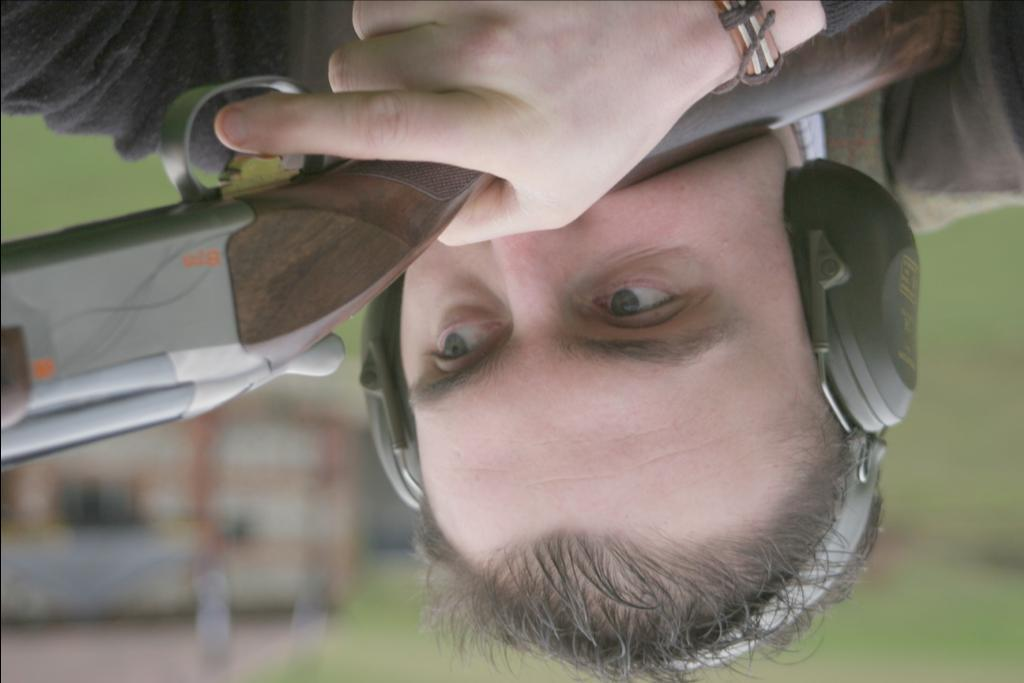gun: (0, 0, 961, 467)
